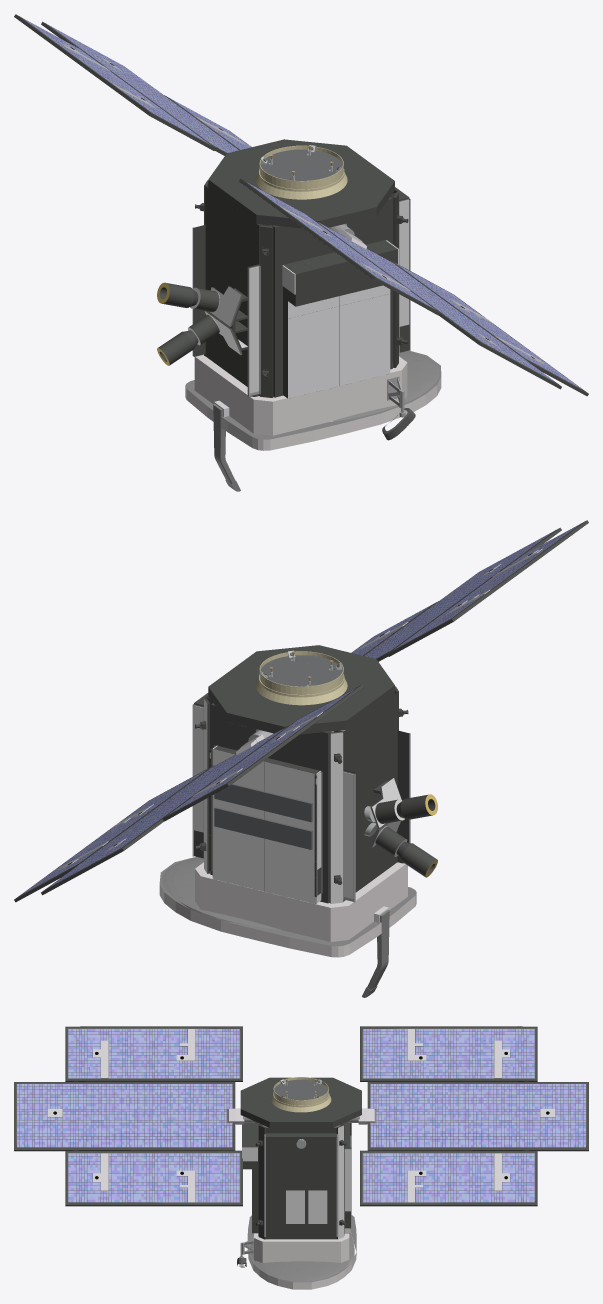
Rendered from cloudsat-b.glb.
3 renders of one model, top to bottom at view 1: azimuth 30°, elevation 25°; view 2: azimuth 150°, elevation 25°; view 3: azimuth 270°, elevation 25°, orthographic. The views are drawn at different scales.
Visible parts, largest first — view 1: Layer_0; view 2: Layer_0; view 3: Layer_0.
Part boxes in pixels (<box>): Layer_0: <box>14,14,588,491</box>; Layer_0: <box>14,520,588,997</box>; Layer_0: <box>14,1026,588,1289</box>.
Bounding box in the file's own units: 11.5 × 14.35 × 32.24.
Materials: 2 (2 with a texture image).
